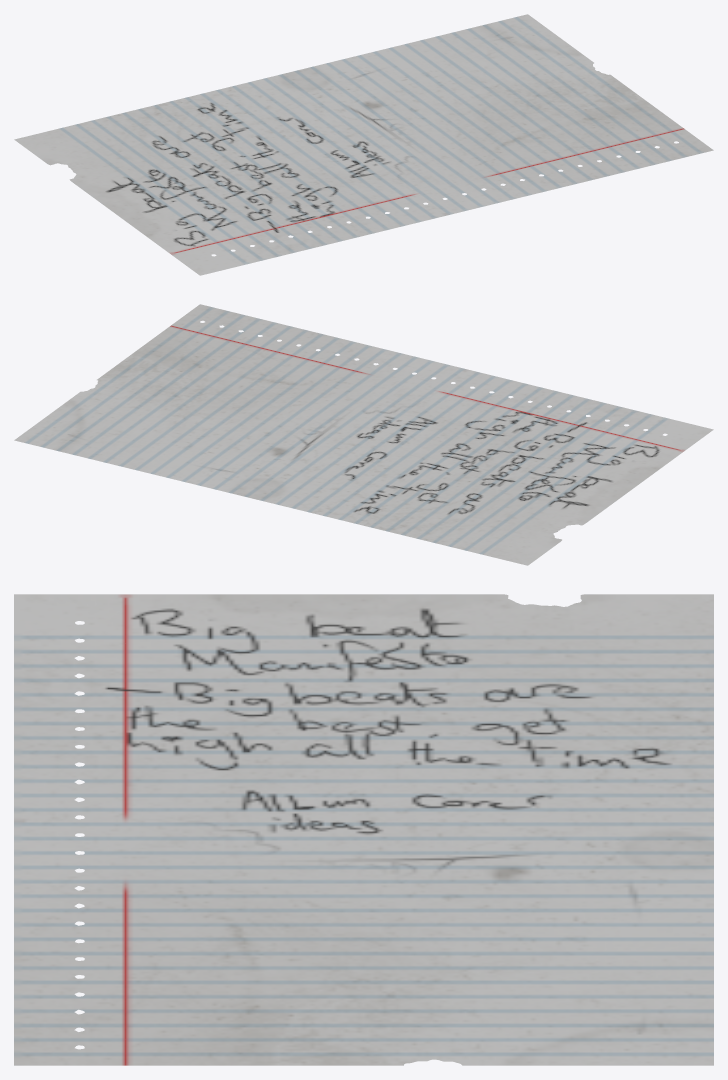
File: SM_PaperScrap_01.fbx
3 views of the same model, one above another, from view 1: azimuth 30°, elevation 25°; view 2: azimuth 150°, elevation 25°; view 3: azimuth 270°, elevation 25° (orthographic). The views are drawn at different scales.
Parts seen in each view (by area): view 1: SM_PaperScrap_01_LOD0; view 2: SM_PaperScrap_01_LOD0; view 3: SM_PaperScrap_01_LOD0.
Part boxes in pixels (x1,y1,x2,y2): SM_PaperScrap_01_LOD0: (14, 14, 713, 275); SM_PaperScrap_01_LOD0: (14, 304, 713, 565); SM_PaperScrap_01_LOD0: (14, 594, 713, 1065).
Bounding box in the file's own units: 33.58 × 21.07 × 4.09e-07.
1 material, 1 textured.
